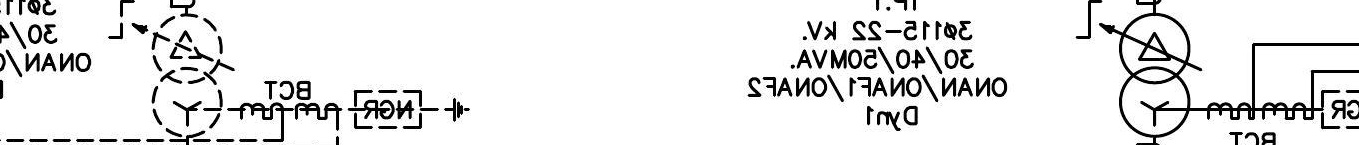11522_tx_dyn1: (1118, 12, 1191, 139)
